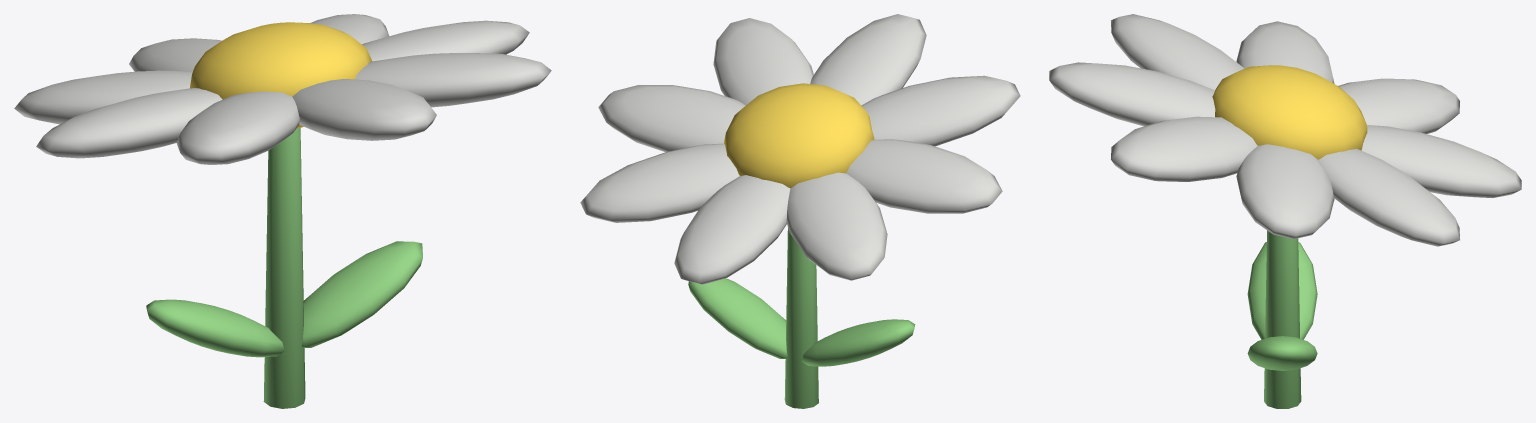
The model's file is daisy_white.glb.
3 renders of one model, left to right at view 1: azimuth 30°, elevation 25°; view 2: azimuth 150°, elevation 25°; view 3: azimuth 270°, elevation 25°, orthographic. The views are drawn at different scales.
Parts seen in each view (by area): view 1: Center, Stem, Petal_4, Petal_7, Petal_6, Leaf_0.09, Petal_5, Petal_3, Leaf_-0.09, Petal_0, Petal_2, Petal_1; view 2: Center, Petal_4, Petal_2, Petal_3, Petal_1, Petal_5, Petal_0, Petal_6, Petal_7, Stem, Leaf_0.09, Leaf_-0.09; view 3: Center, Petal_1, Petal_7, Petal_6, Petal_0, Petal_2, Petal_5, Stem, Petal_3, Petal_4, Leaf_-0.09, Leaf_0.09.
Part boxes in pixels (x1=…): Center: x1=190, y1=22, x2=372, y2=128; Stem: x1=263, y1=128, x2=305, y2=408; Petal_4: x1=36, y1=88, x2=222, y2=158; Petal_7: x1=355, y1=53, x2=551, y2=107; Petal_6: x1=292, y1=79, x2=436, y2=140; Leaf_0.09: x1=301, y1=241, x2=422, y2=347; Petal_5: x1=176, y1=91, x2=299, y2=164; Petal_3: x1=14, y1=70, x2=192, y2=124; Leaf_-0.09: x1=146, y1=299, x2=284, y2=357; Petal_0: x1=362, y1=20, x2=529, y2=61; Petal_2: x1=129, y1=38, x2=221, y2=71; Petal_1: x1=310, y1=14, x2=389, y2=44; Center: x1=724, y1=83, x2=874, y2=188; Petal_4: x1=846, y1=139, x2=1002, y2=213; Petal_2: x1=674, y1=175, x2=790, y2=284; Petal_3: x1=786, y1=172, x2=887, y2=280; Petal_1: x1=580, y1=143, x2=739, y2=222; Petal_5: x1=861, y1=75, x2=1020, y2=146; Petal_0: x1=598, y1=85, x2=745, y2=152; Petal_6: x1=810, y1=14, x2=926, y2=105; Petal_7: x1=713, y1=18, x2=813, y2=105; Stem: x1=784, y1=228, x2=818, y2=408; Leaf_0.09: x1=688, y1=278, x2=787, y2=358; Leaf_-0.09: x1=801, y1=319, x2=915, y2=366; Center: x1=1212, y1=65, x2=1367, y2=159; Petal_1: x1=1318, y1=148, x2=1459, y2=246; Petal_7: x1=1111, y1=116, x2=1257, y2=181; Petal_6: x1=1049, y1=62, x2=1215, y2=126; Petal_0: x1=1236, y1=144, x2=1334, y2=239; Petal_2: x1=1361, y1=125, x2=1521, y2=197; Petal_5: x1=1111, y1=14, x2=1244, y2=89; Stem: x1=1264, y1=230, x2=1301, y2=408; Petal_3: x1=1338, y1=78, x2=1459, y2=133; Petal_4: x1=1236, y1=21, x2=1334, y2=83; Leaf_-0.09: x1=1247, y1=242, x2=1317, y2=339; Leaf_0.09: x1=1247, y1=336, x2=1317, y2=370.
Size of the model in its own units: 0.6264 by 0.4707 by 0.6069.
